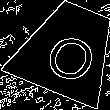O_NE: (36, 18, 100, 82)
